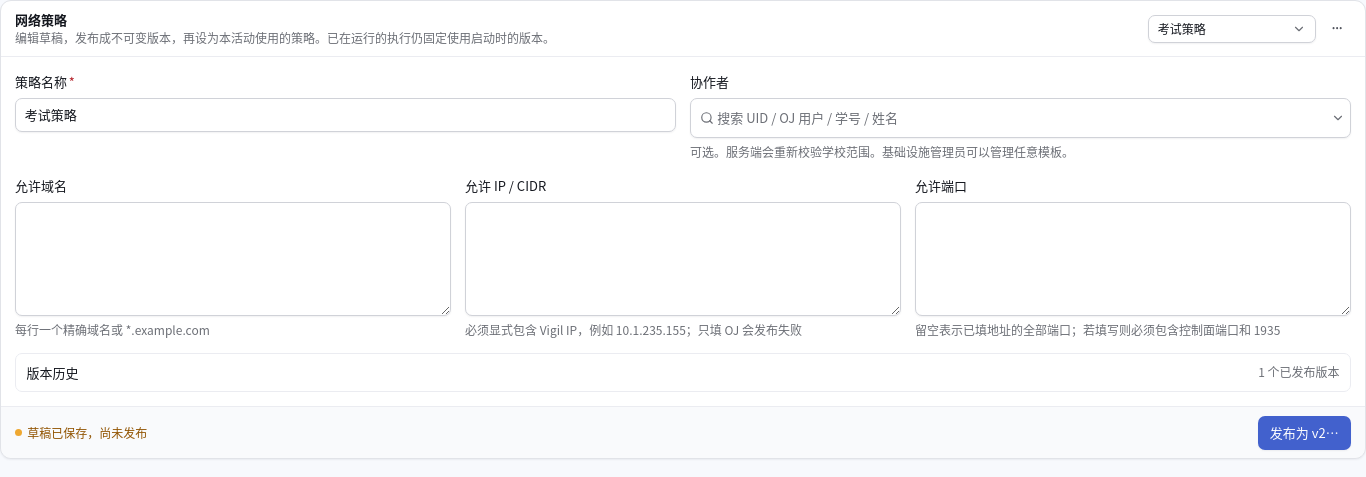
Test: exam event policy step › 修改允许域名后可以放弃，并恢复原文
Expected: the field showing "考试策略" is shown, [15, 98, 676, 132]
In the text box labelled "允许域名": (233, 259) [15, 202, 451, 316], type "judge.example.edu"
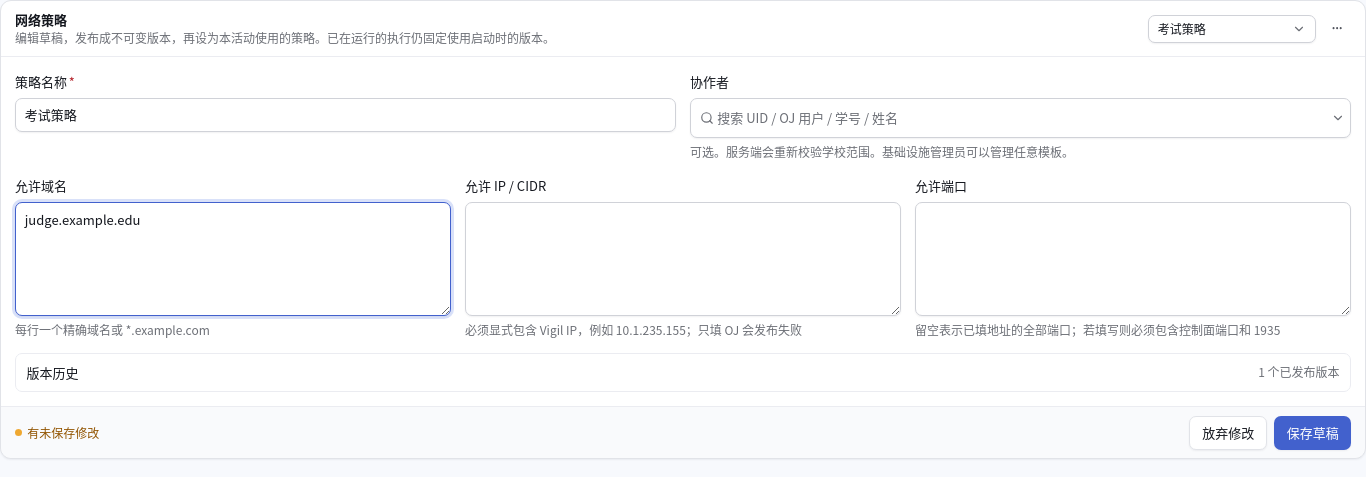
Expected: the element showing "有未保存修改" is shown, [15, 424, 99, 442]
Expected: the button "放弃修改" is shown
Expected: the button "保存草稿" is shown, [1274, 416, 1351, 450]
Click the button "放弃修改": click(1228, 433) [1189, 416, 1268, 450]
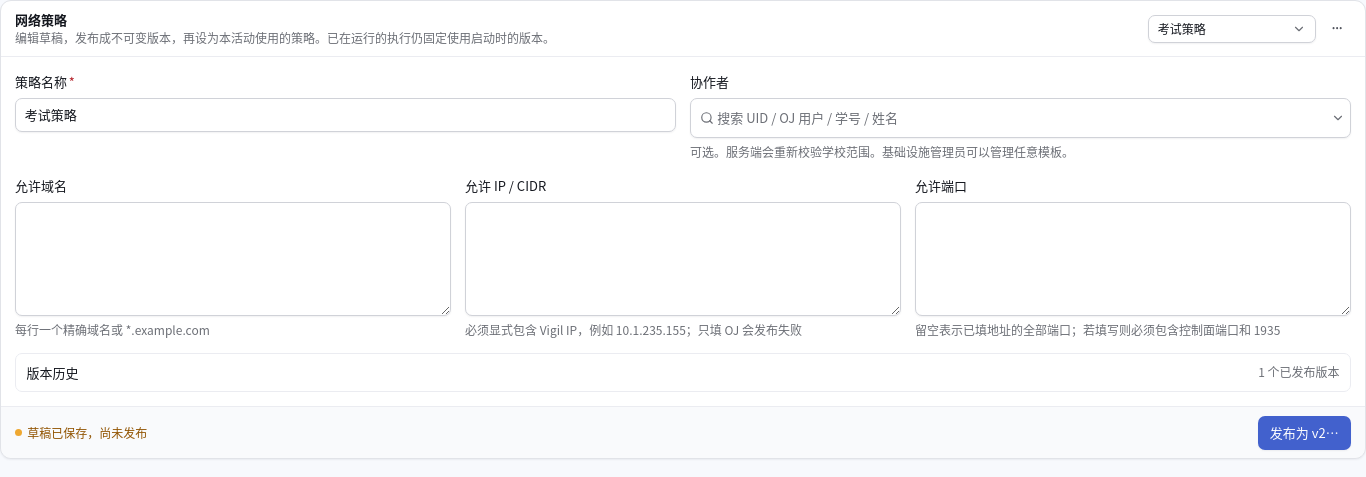
Expected: the text box labelled "允许域名" is empty, [15, 202, 451, 316]
Expected: the text "有未保存修改" is gone
Expected: the element showing "草稿已保存，尚未发布" is shown, [15, 424, 147, 442]
